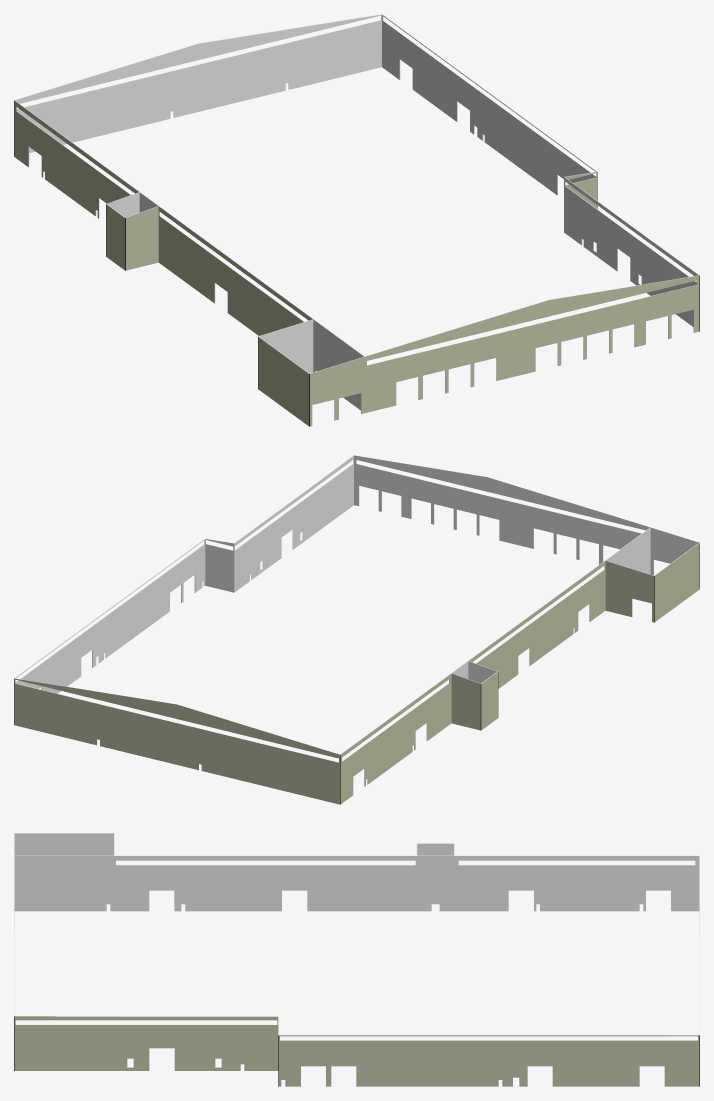
Rendered from ShopWalls.fbx.
3 renders of one model, top to bottom at view 1: azimuth 30°, elevation 25°; view 2: azimuth 150°, elevation 25°; view 3: azimuth 270°, elevation 25°, orthographic. The views are drawn at different scales.
Visible parts, largest first — view 1: ShopLowerWalls; view 2: ShopLowerWalls; view 3: ShopLowerWalls.
Part boxes in pixels (bbox=[...]): ShopLowerWalls: bbox=[14, 14, 699, 426]; ShopLowerWalls: bbox=[14, 455, 699, 804]; ShopLowerWalls: bbox=[14, 833, 699, 1086].
Bounding box in the file's own units: 11582 × 1783 × 16612.
